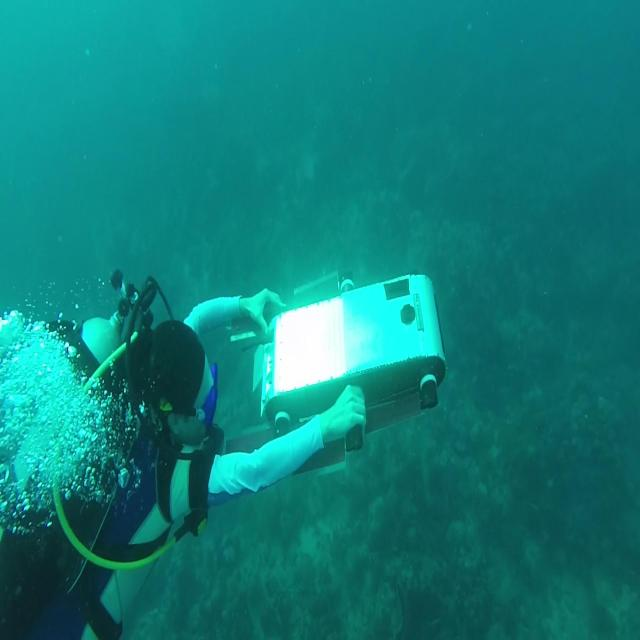human: (71, 285, 367, 638)
